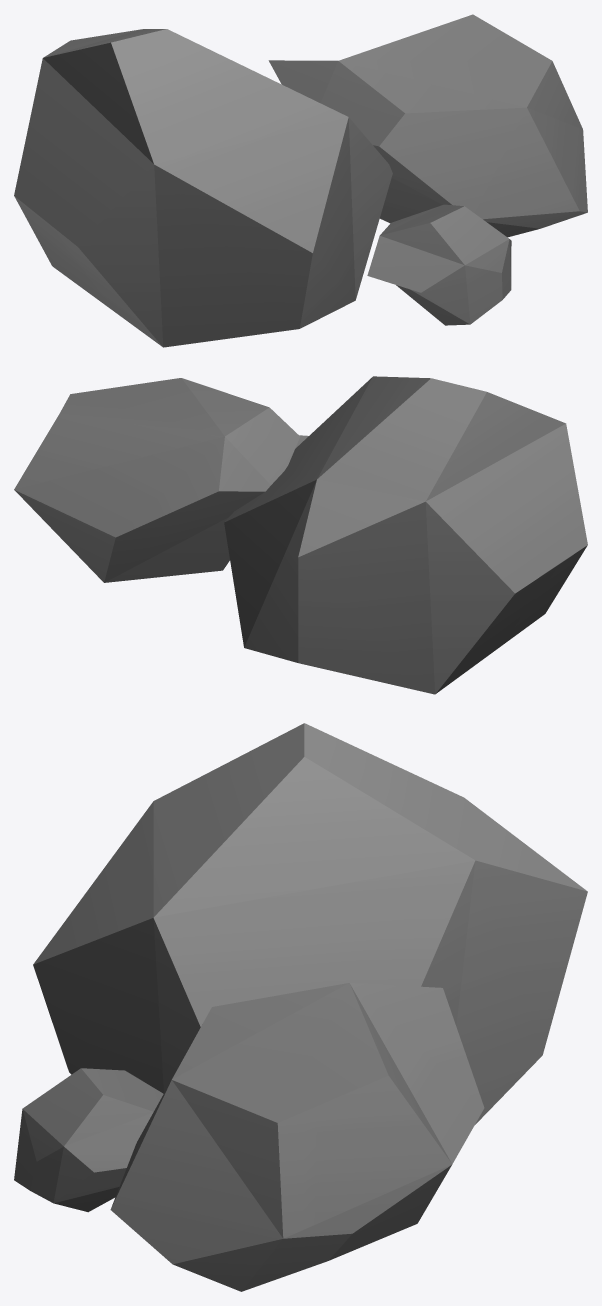
The model's file is rocks4.glb.
3 views of the same model, one above another, from view 1: azimuth 30°, elevation 25°; view 2: azimuth 150°, elevation 25°; view 3: azimuth 270°, elevation 25° (orthographic). The views are drawn at different scales.
Visible parts, largest first — view 1: rocks4; view 2: rocks4; view 3: rocks4.
Part boxes in pixels (x1=…): rocks4: x1=14, y1=14, x2=587, y2=347; rocks4: x1=14, y1=376, x2=587, y2=694; rocks4: x1=14, y1=723, x2=587, y2=1291.
Bounding box in the file's own units: 1.07 × 0.518 × 0.817.
1 material, 1 textured.
